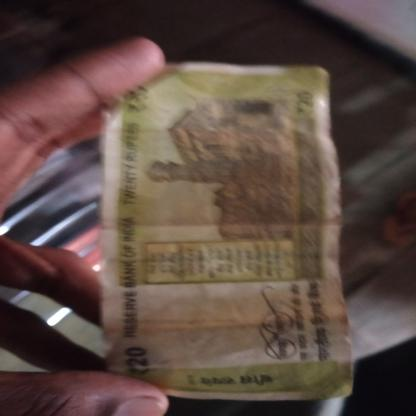New20Back: (105, 61, 352, 399)
